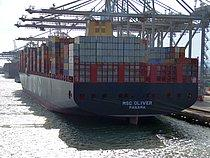Ship: (19, 18, 202, 128)
